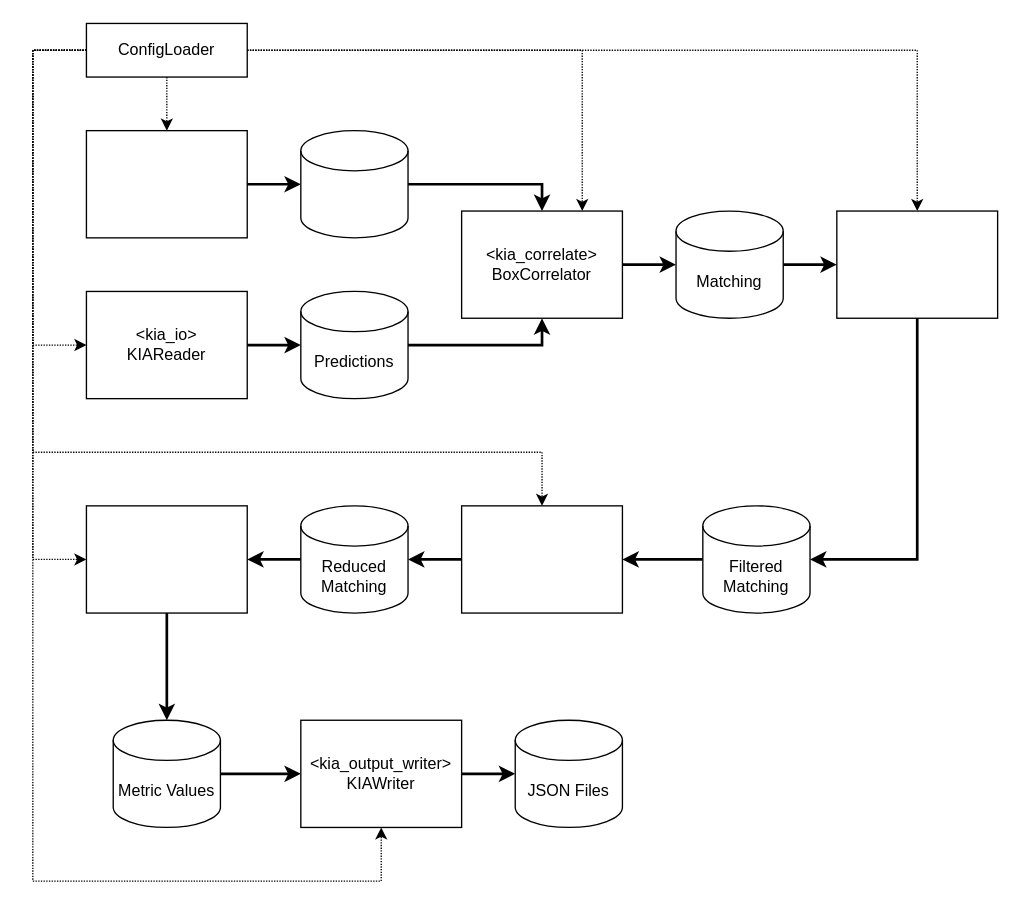
The diagram is 1021 pixels wide and 915 high, and some of its shapes have lost their labels. Each missing label, with the centre of its shape:
<kia_correlate> MatchingReduction: [541,559]
<kia_filter> KiaFilter: [916,264]
<kia_io> KIADatasetLoader: [166,183]
Annotations: [353,183]
Metric Calculation: [166,559]
